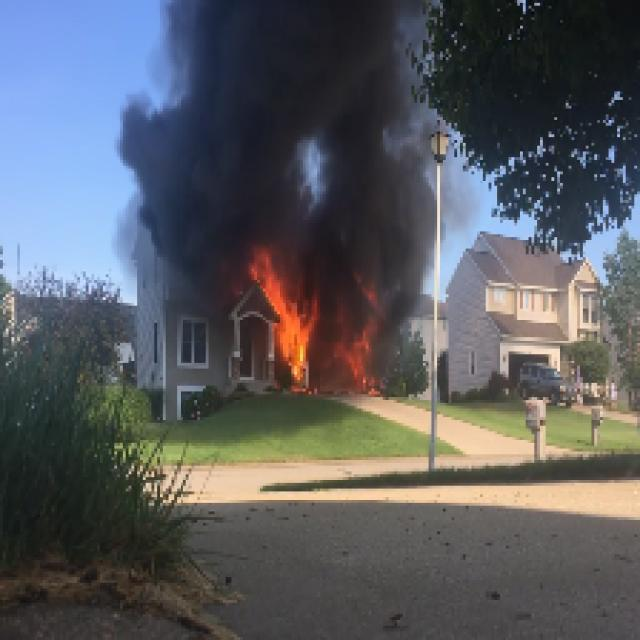Fire: (258, 264, 316, 382)
Smoke: (169, 2, 425, 258)
